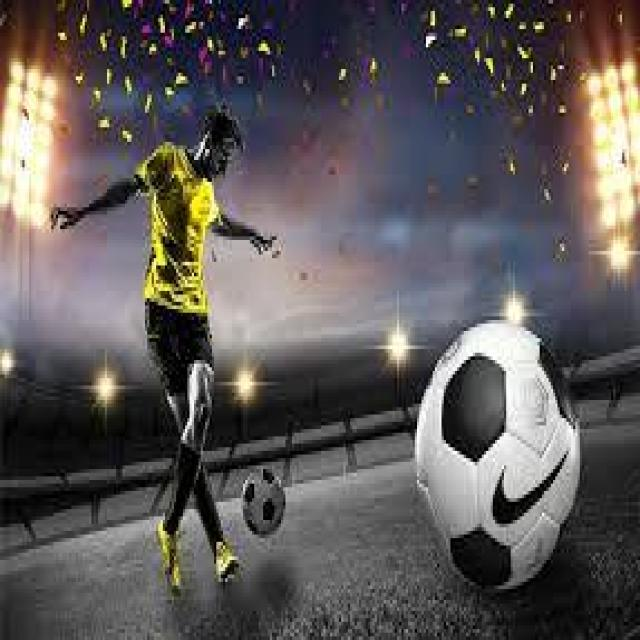Soccer Ball: (415, 320, 584, 589), (241, 473, 283, 538)
